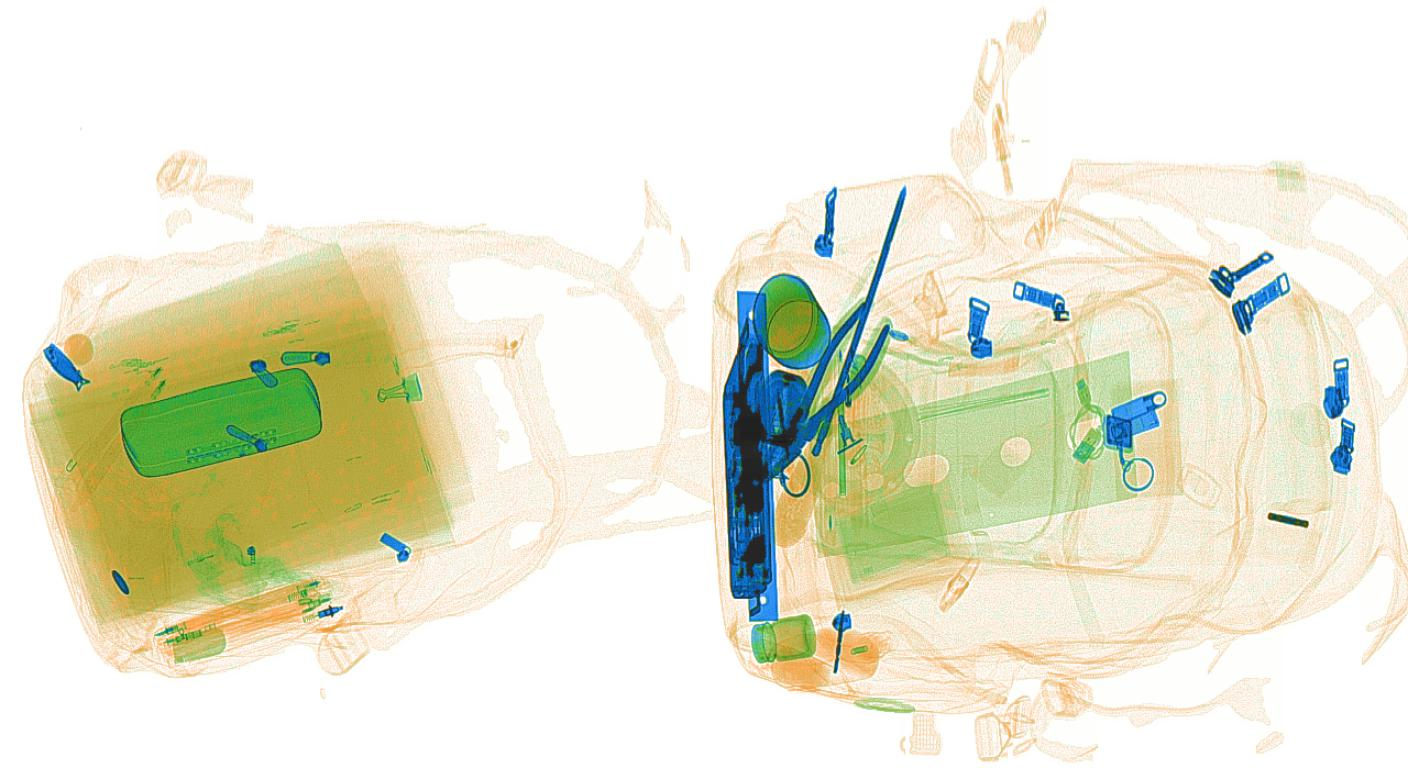plasticBottleWithaNozzle: (765, 625, 900, 693)
